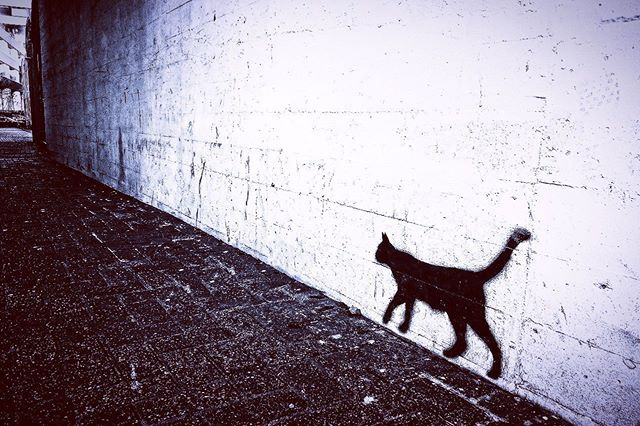graffiti: (364, 210, 537, 393)
wall: (39, 6, 640, 426)
